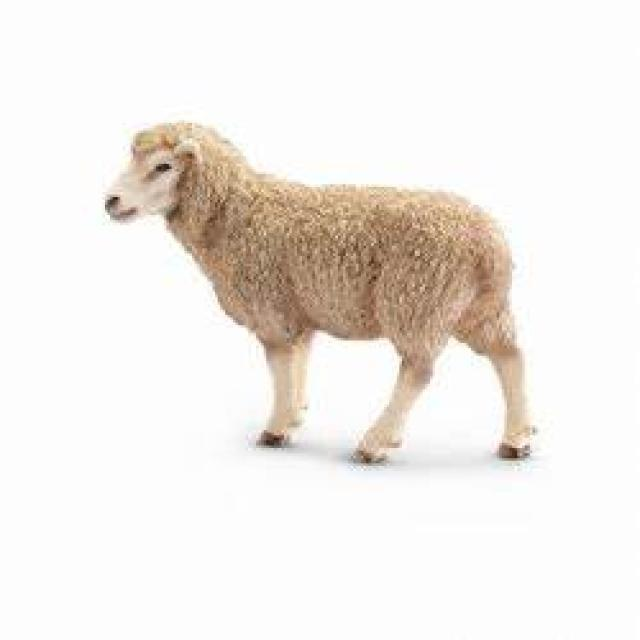animal: (100, 118, 535, 463)
